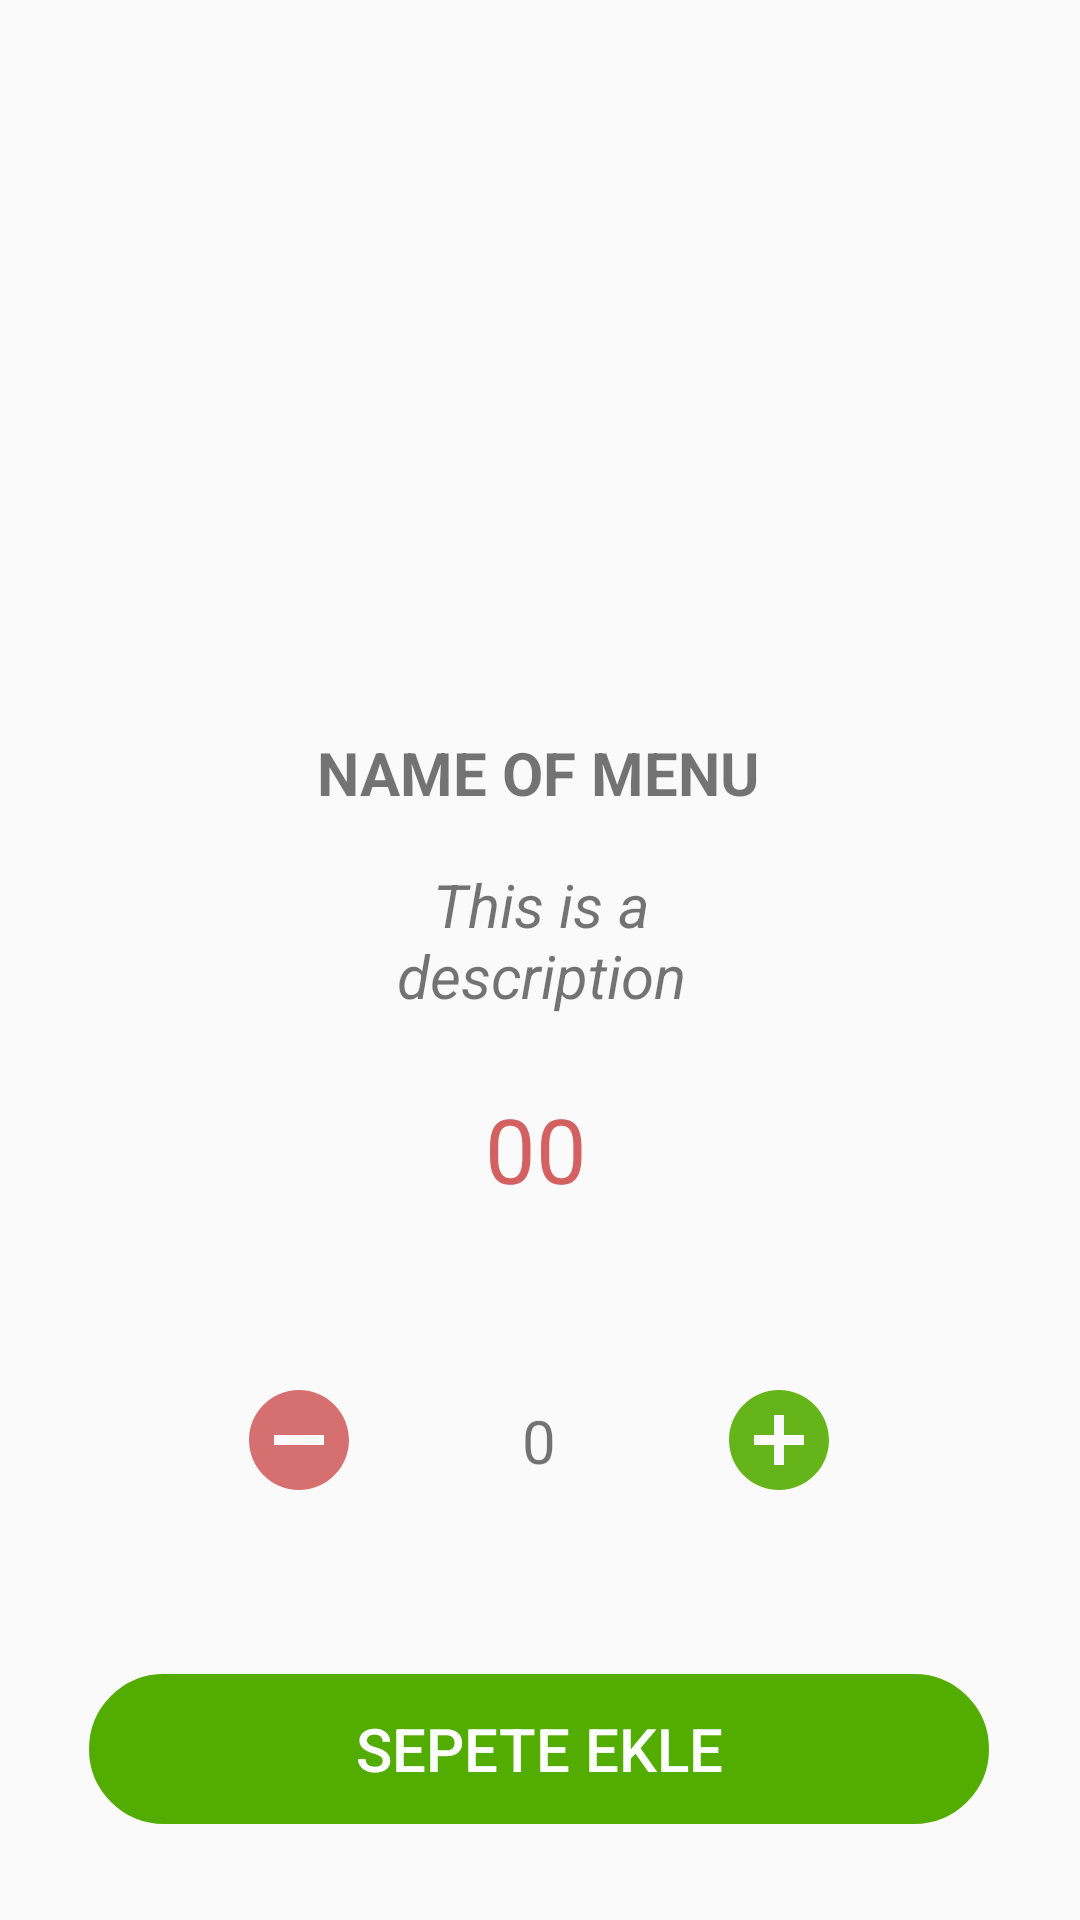

Icon click points for this 1080×1920 phone screenshot, format point (x, y):
add circle: point (779, 1440)
remove circle: point (299, 1440)
